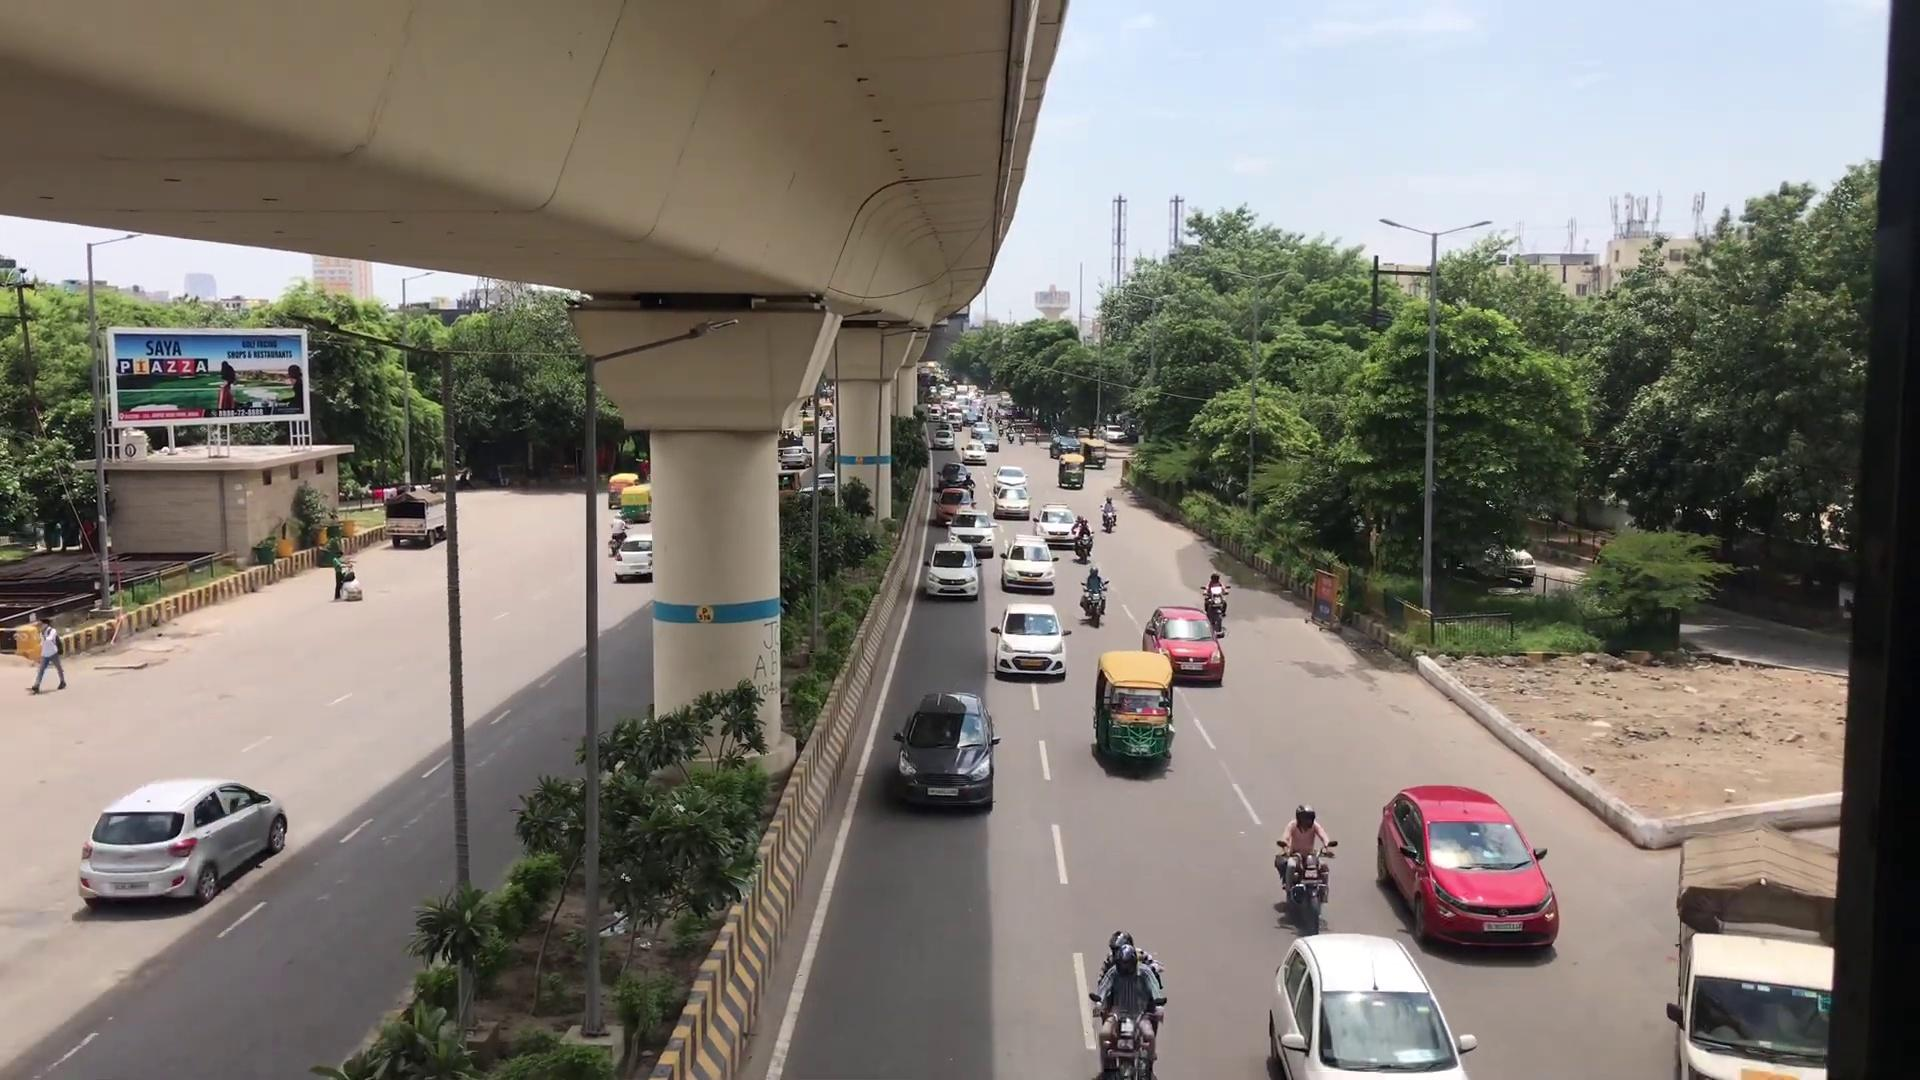Auto: (1092, 647, 1174, 769)
Bike: (1089, 923, 1166, 1079), (1275, 799, 1335, 936), (1077, 564, 1112, 633), (1200, 564, 1232, 629), (1071, 514, 1095, 564), (1100, 493, 1118, 534)
Car: (78, 779, 289, 910)
Truck: (1662, 815, 1837, 1077)
